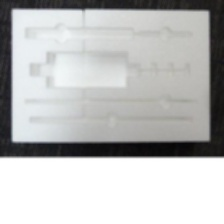foam_box: (8, 4, 214, 147)
